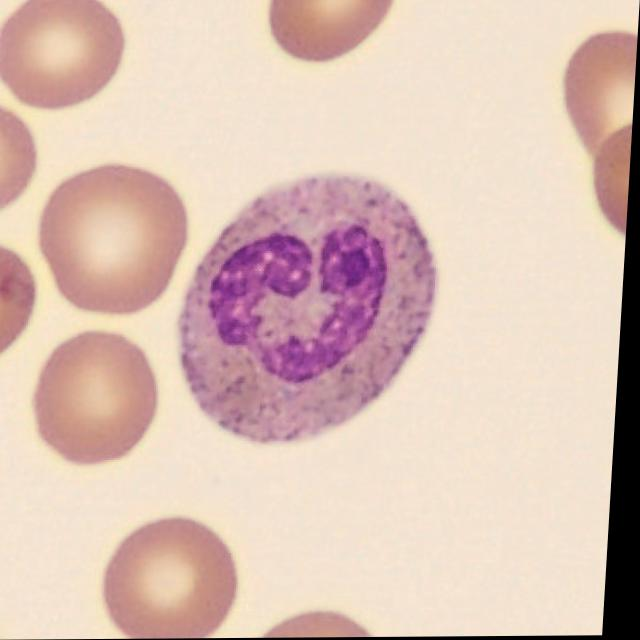Neutrofilo segmentado: (180, 171, 439, 445)
